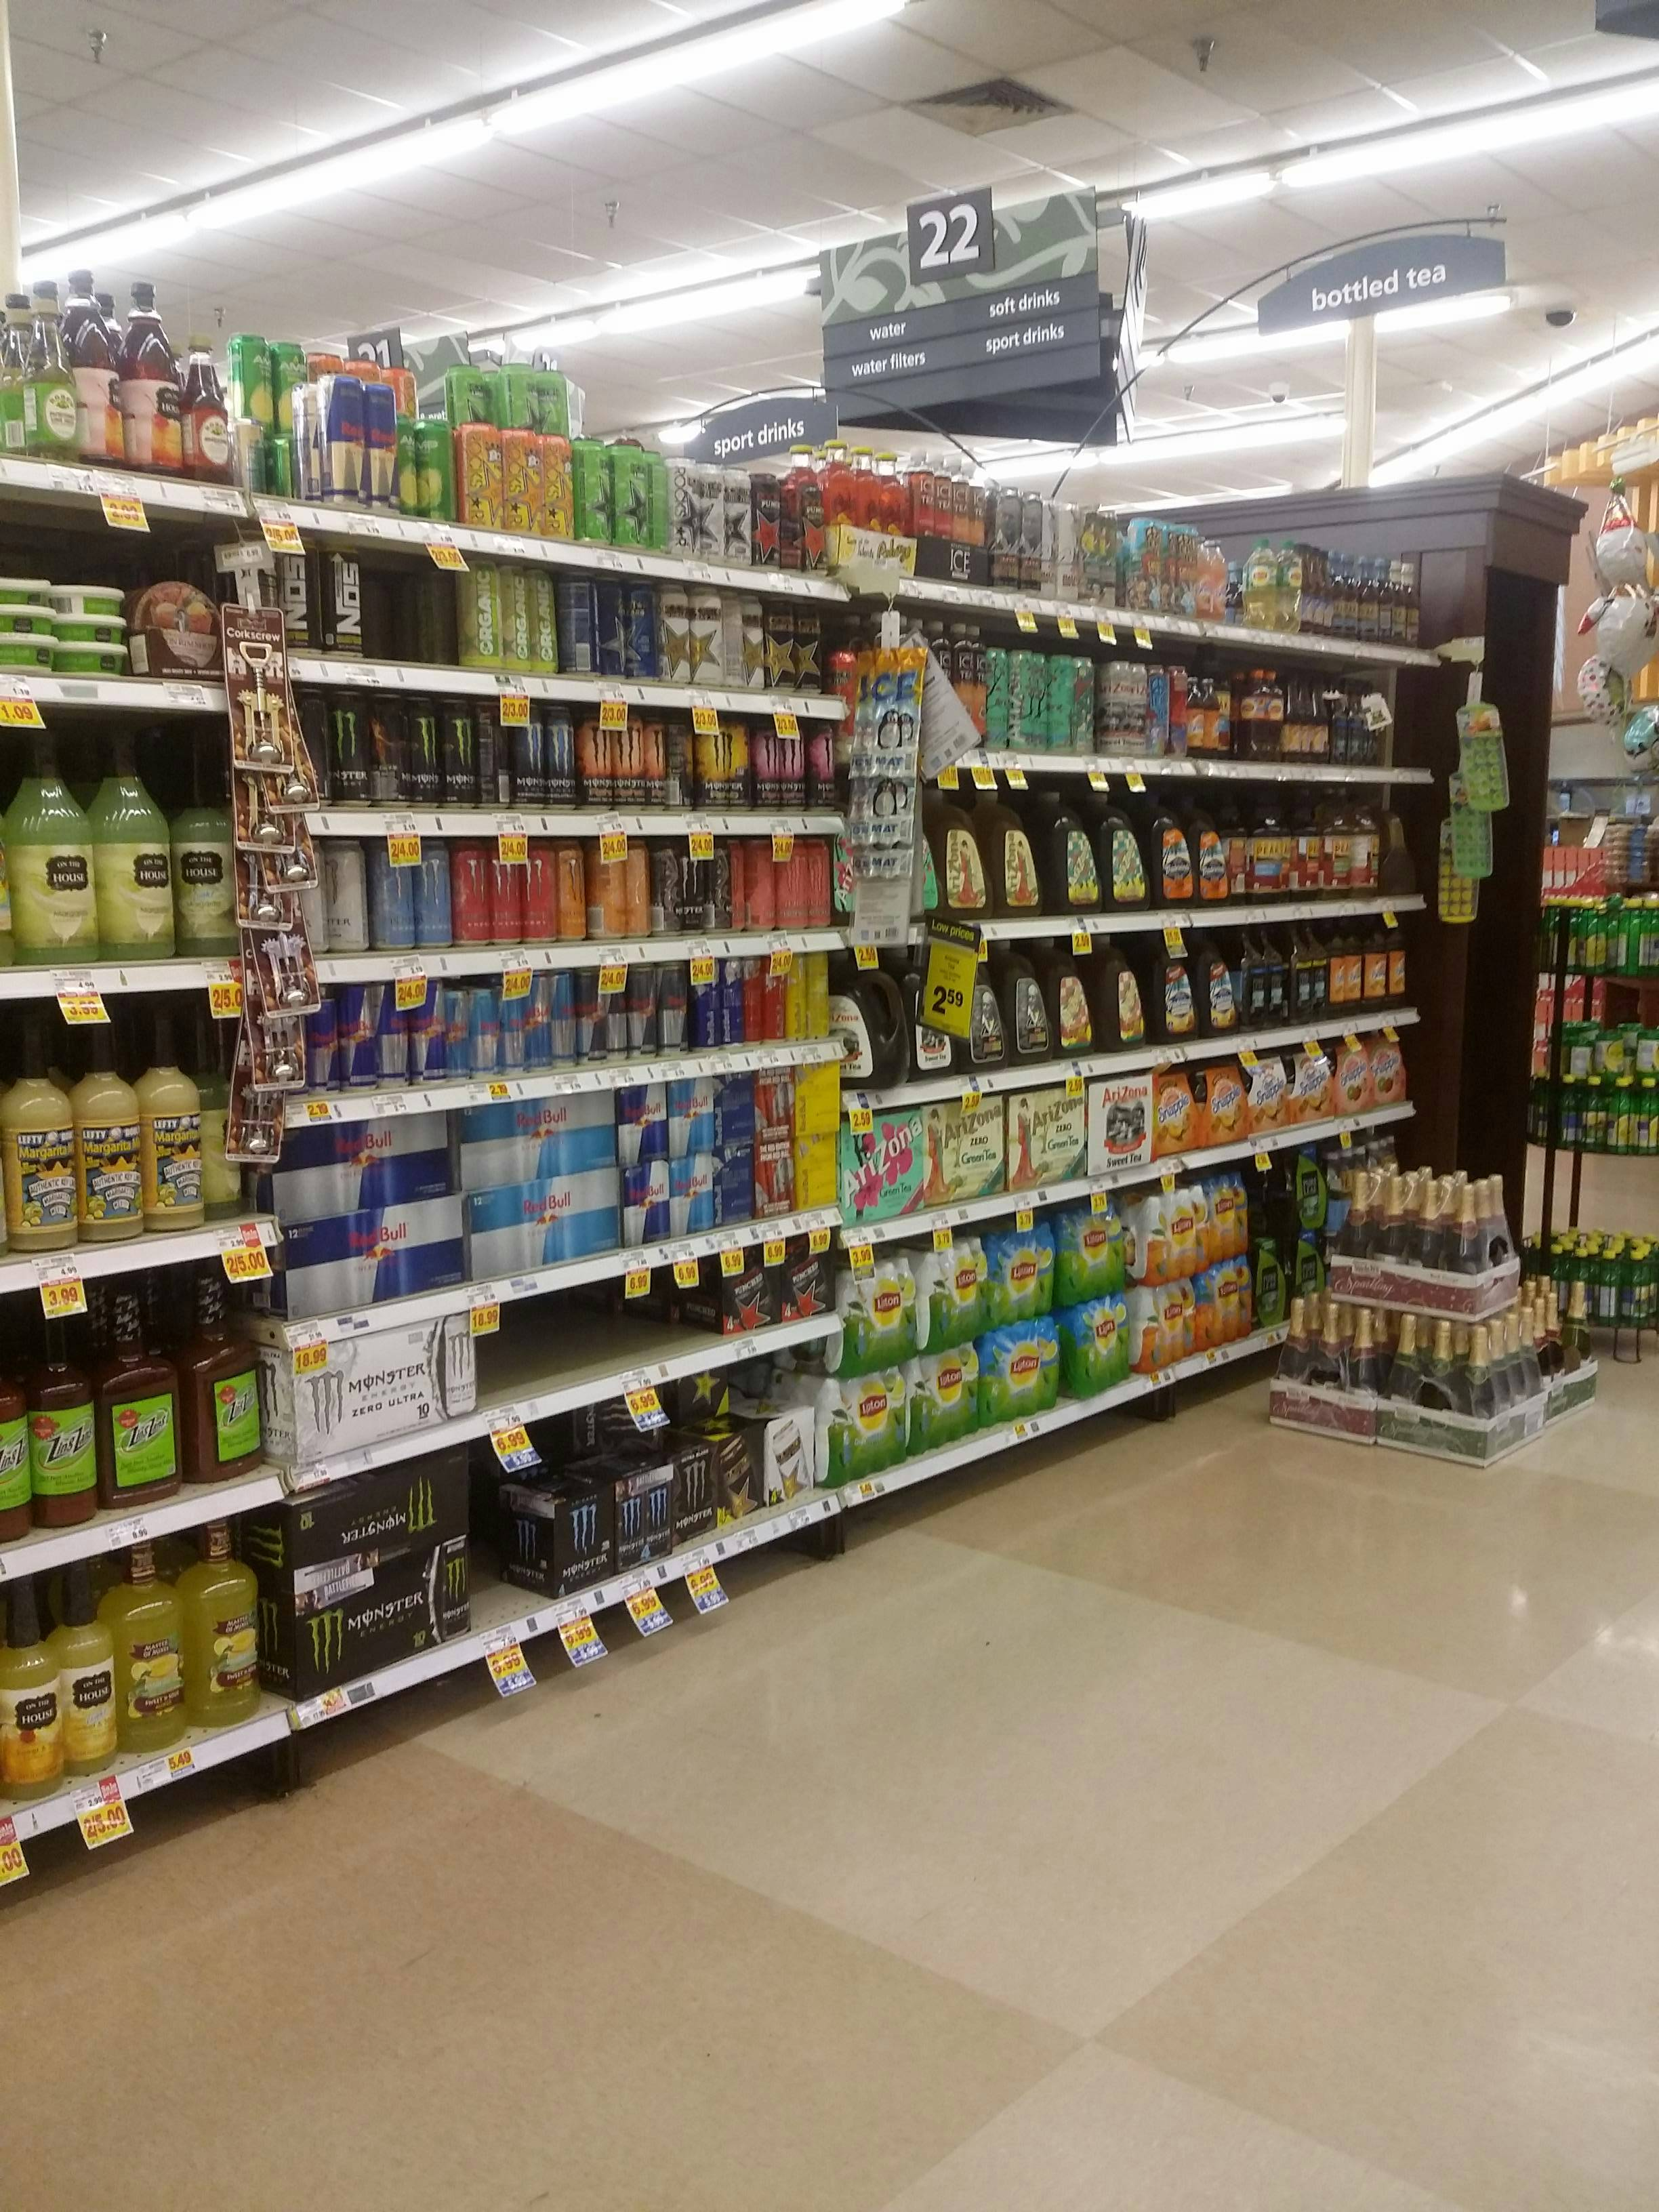product: (7, 719, 91, 972), (291, 1339, 476, 1437), (24, 1298, 99, 1527), (9, 1007, 73, 1254), (178, 1273, 256, 1472), (110, 1270, 171, 1508), (112, 1550, 183, 1749), (101, 728, 159, 953), (5, 1583, 63, 1799), (146, 998, 197, 1238), (188, 1519, 242, 1738), (84, 1008, 132, 1242), (179, 730, 228, 958), (291, 1231, 451, 1299), (289, 1130, 436, 1202), (457, 1101, 608, 1165), (286, 1496, 477, 1547), (227, 611, 288, 765), (295, 1601, 467, 1655), (474, 1197, 615, 1259), (125, 275, 171, 467), (73, 273, 117, 463), (840, 942, 897, 1085), (17, 279, 63, 456), (821, 1385, 903, 1477), (1006, 1087, 1082, 1184), (857, 658, 920, 775), (68, 1569, 105, 1768), (927, 1101, 1000, 1200), (843, 1122, 922, 1214), (981, 791, 1040, 913), (1087, 1073, 1152, 1177), (981, 1327, 1063, 1409), (950, 944, 1004, 1064), (843, 1270, 908, 1367), (760, 1139, 840, 1216), (134, 589, 206, 672), (1133, 1193, 1199, 1282), (911, 1251, 986, 1327), (183, 327, 223, 470), (1216, 1062, 1286, 1144), (211, 993, 235, 1224), (319, 846, 369, 956), (992, 1226, 1056, 1308), (319, 376, 361, 502), (1068, 1310, 1129, 1390), (1063, 1211, 1122, 1291), (544, 1503, 603, 1583), (920, 1362, 976, 1446), (760, 1071, 843, 1127), (1047, 791, 1087, 906), (1054, 944, 1093, 1061), (931, 782, 965, 909), (788, 1230, 833, 1325), (1009, 944, 1047, 1057), (782, 442, 814, 578), (1373, 1179, 1408, 1301), (251, 939, 310, 1010), (1157, 1068, 1209, 1148), (1419, 1172, 1448, 1313), (1136, 1291, 1192, 1366), (1208, 1176, 1263, 1251), (1469, 1327, 1500, 1460), (1202, 1273, 1256, 1350), (331, 698, 369, 806), (1152, 937, 1192, 1040), (572, 1407, 662, 1453), (1314, 1301, 1345, 1430), (769, 1416, 814, 1505), (617, 1480, 664, 1566), (1201, 934, 1236, 1049), (474, 704, 511, 812), (1101, 939, 1138, 1047), (1100, 796, 1134, 909), (1427, 1324, 1455, 1463), (458, 561, 493, 672), (1152, 791, 1185, 906), (911, 944, 939, 1080), (364, 381, 392, 514), (375, 841, 408, 953), (411, 695, 443, 812), (484, 843, 519, 948), (720, 1256, 770, 1327), (1197, 796, 1229, 911), (669, 1160, 711, 1245), (554, 836, 589, 937), (289, 535, 321, 646), (660, 583, 694, 688), (455, 430, 495, 516), (1351, 1306, 1375, 1446), (418, 836, 446, 958), (505, 428, 537, 536), (575, 437, 606, 545), (540, 705, 572, 813), (1291, 1059, 1344, 1123), (331, 552, 364, 653), (612, 712, 645, 813), (1286, 1155, 1330, 1231), (530, 571, 561, 678), (375, 698, 404, 810), (227, 333, 265, 418), (908, 448, 932, 580), (931, 622, 955, 754), (856, 439, 878, 580), (1457, 1183, 1481, 1312), (617, 1085, 664, 1151), (746, 838, 777, 937), (415, 416, 444, 521), (655, 961, 687, 1059), (1344, 1172, 1368, 1296), (697, 456, 725, 564), (345, 979, 373, 1087), (382, 981, 410, 1089), (714, 1444, 760, 1510), (673, 1453, 709, 1534), (1391, 1313, 1413, 1444), (849, 787, 913, 833), (457, 843, 483, 953), (1284, 1298, 1305, 1433), (826, 437, 847, 573), (777, 723, 809, 813), (598, 571, 624, 679), (1051, 651, 1077, 759), (669, 1381, 739, 1421), (667, 1085, 709, 1151), (577, 712, 603, 815), (627, 1172, 666, 1242), (653, 841, 680, 941), (528, 838, 552, 944), (415, 979, 439, 1085), (258, 1038, 308, 1089), (540, 435, 565, 540), (714, 1078, 749, 1150), (810, 833, 835, 934), (525, 974, 549, 1073), (779, 841, 805, 934), (714, 1155, 749, 1223), (617, 448, 641, 543), (594, 833, 615, 944), (512, 707, 535, 810), (701, 707, 723, 810), (1105, 658, 1127, 761), (957, 618, 974, 751), (490, 366, 530, 423), (1377, 1045, 1417, 1103), (671, 460, 695, 554), (631, 582, 653, 683), (728, 712, 751, 813), (535, 373, 577, 427), (701, 582, 721, 690), (570, 570, 591, 676), (469, 991, 493, 1082), (885, 451, 903, 575), (1175, 664, 1195, 766), (552, 972, 575, 1066), (732, 463, 753, 564), (502, 571, 523, 672), (683, 836, 704, 937), (622, 841, 643, 942), (586, 965, 606, 1064), (805, 606, 828, 697), (676, 718, 697, 813), (648, 718, 669, 813), (692, 963, 716, 1045), (972, 622, 988, 749), (314, 1003, 336, 1090), (451, 707, 471, 810), (1014, 651, 1033, 754), (235, 819, 295, 852), (709, 846, 730, 939), (992, 641, 1009, 751), (498, 989, 519, 1080), (446, 359, 481, 413), (755, 725, 775, 813), (244, 1101, 279, 1153), (56, 644, 117, 674), (64, 583, 122, 615), (814, 719, 833, 813), (1133, 658, 1148, 773), (756, 463, 774, 566), (725, 589, 742, 690), (631, 960, 648, 1059), (856, 850, 913, 880), (772, 603, 791, 690), (816, 944, 833, 1040), (1155, 664, 1173, 758), (769, 954, 788, 1040), (1349, 1045, 1371, 1113), (2, 641, 51, 672), (1080, 657, 1094, 766), (746, 594, 762, 690), (235, 428, 258, 495), (59, 617, 120, 641), (727, 958, 744, 1043), (648, 451, 662, 554), (448, 995, 464, 1085), (612, 963, 626, 1062), (5, 571, 45, 603), (268, 866, 319, 890), (244, 895, 295, 920), (263, 782, 312, 806), (791, 951, 805, 1036), (746, 956, 760, 1042), (2, 608, 42, 636)
